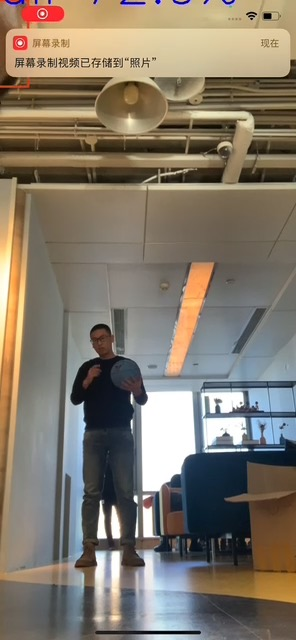ball: (109, 360, 141, 390)
